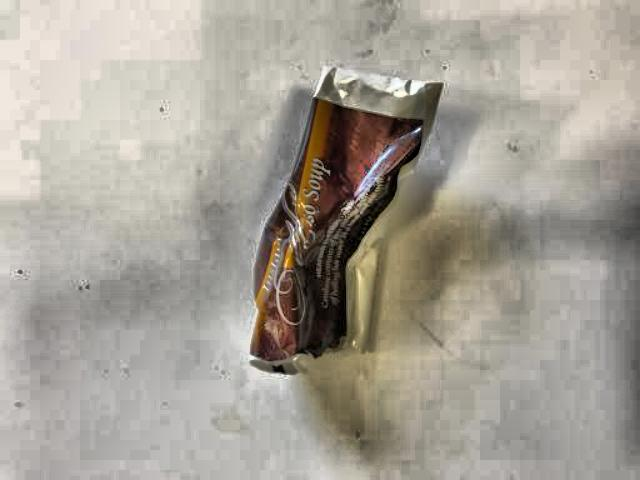Plastic: (229, 48, 475, 402)
